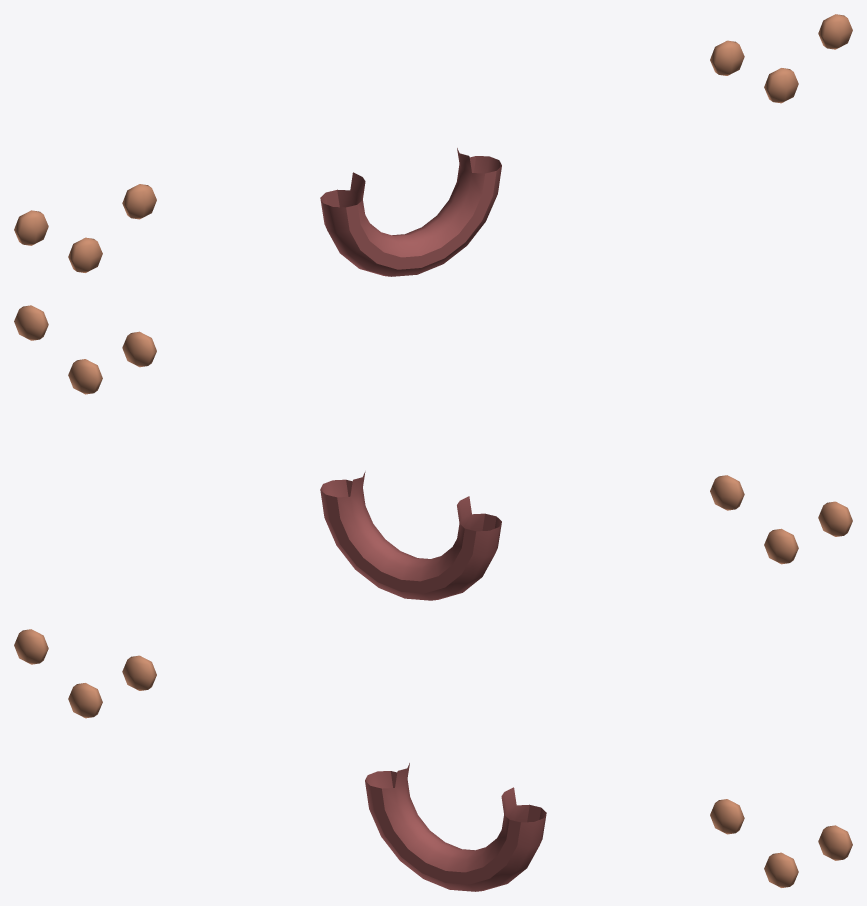
The model's file is Face_Freckles.fbx.
3 renders of one model, top to bottom at view 1: azimuth 30°, elevation 25°; view 2: azimuth 150°, elevation 25°; view 3: azimuth 330°, elevation 25°, orthographic.
Parts seen in each view (by area): view 1: Mouth, Freckle.005, Freckle.002, Freckle, Freckle.003, Freckle.001, Freckle.004; view 2: Mouth, Freckle.003, Freckle.004, Freckle, Freckle.001, Freckle.002, Freckle.005; view 3: Mouth, Freckle.002, Freckle.005, Freckle, Freckle.003, Freckle.001, Freckle.004.
Part boxes in pixels (left/top/right/bottom): Mouth: left=320, top=148, right=501, bottom=276; Freckle.005: left=14, top=210, right=48, bottom=245; Freckle.002: left=818, top=14, right=852, bottom=49; Freckle: left=710, top=40, right=744, bottom=75; Freckle.003: left=122, top=184, right=156, bottom=219; Freckle.001: left=764, top=68, right=798, bottom=103; Freckle.004: left=68, top=237, right=102, bottom=272; Mouth: left=320, top=471, right=501, bottom=600; Freckle.003: left=710, top=475, right=744, bottom=510; Freckle.004: left=764, top=528, right=798, bottom=564; Freckle: left=122, top=331, right=156, bottom=367; Freckle.001: left=68, top=359, right=102, bottom=394; Freckle.002: left=14, top=305, right=48, bottom=340; Freckle.005: left=818, top=501, right=852, bottom=536; Mouth: left=365, top=763, right=546, bottom=891; Freckle.002: left=818, top=825, right=852, bottom=860; Freckle.005: left=14, top=629, right=48, bottom=664; Freckle: left=710, top=799, right=744, bottom=834; Freckle.003: left=122, top=655, right=156, bottom=690; Freckle.001: left=764, top=852, right=798, bottom=887; Freckle.004: left=68, top=683, right=102, bottom=718.
Size of the model in its own units: 53.91 by 11 by 4.24.
